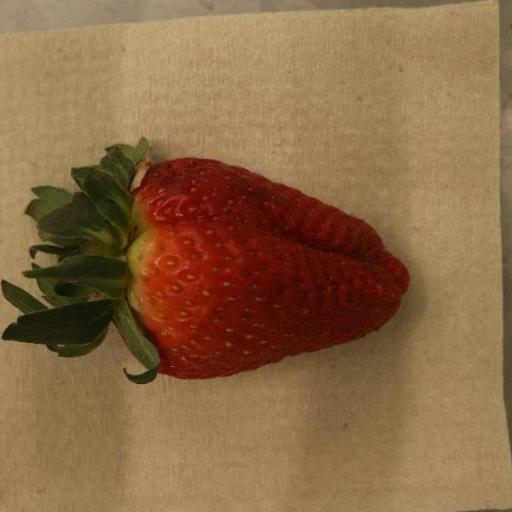Strawberry: (0, 138, 410, 385)
